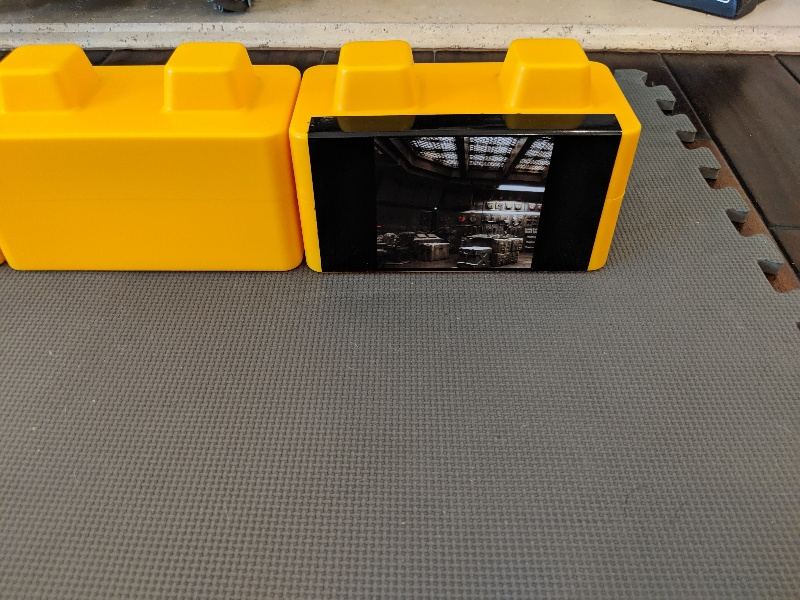Skystone: (296, 106, 633, 284)
